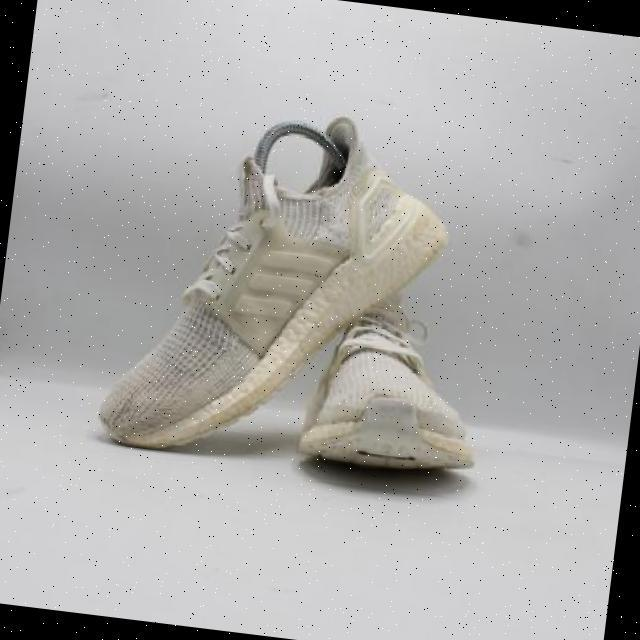Adidas: (230, 234, 342, 336)
